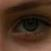eye: (23, 20, 39, 32)
